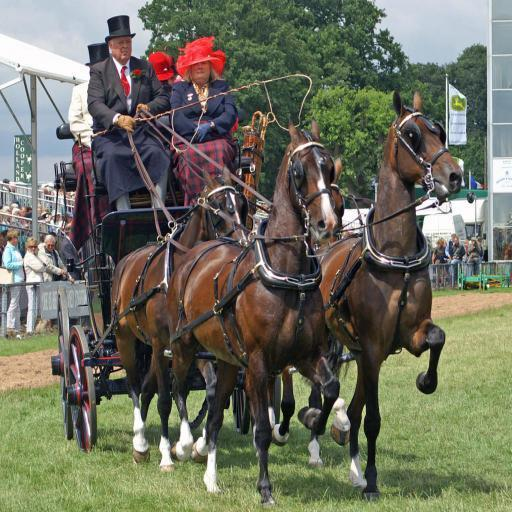horse: (295, 88, 465, 506), (168, 118, 335, 512), (110, 164, 246, 474), (264, 154, 344, 470)
